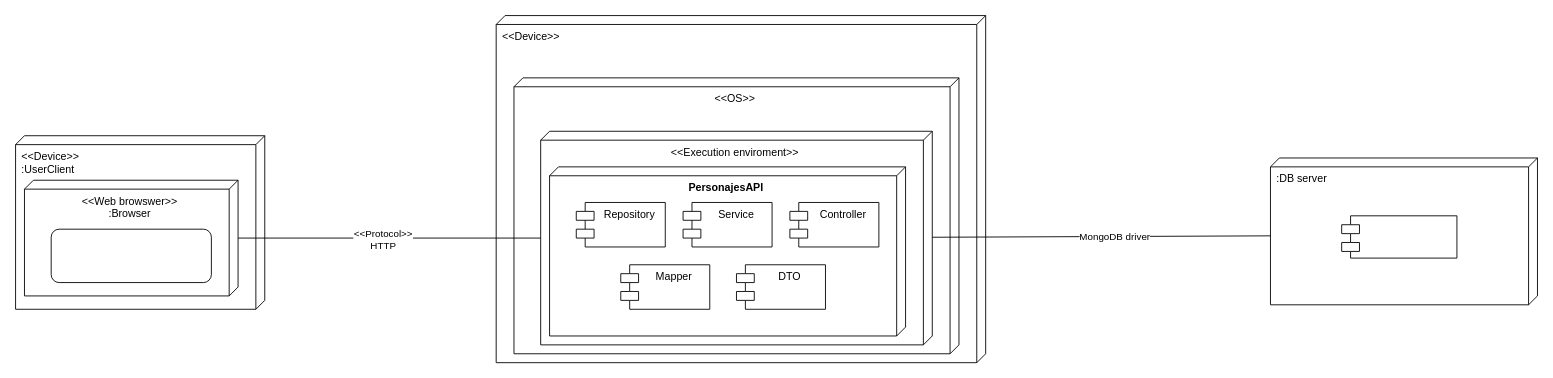
Some shapes in this 1553 by 378 pixel diagram are drawn without their labels. The shapes that lost their labels are listed below. From the top down, each one's centre as x and y in pixels, then its label:
the point at 130,255: <<artifact>> Curl Localhost:8080
the point at 1399,236: Mongo db
